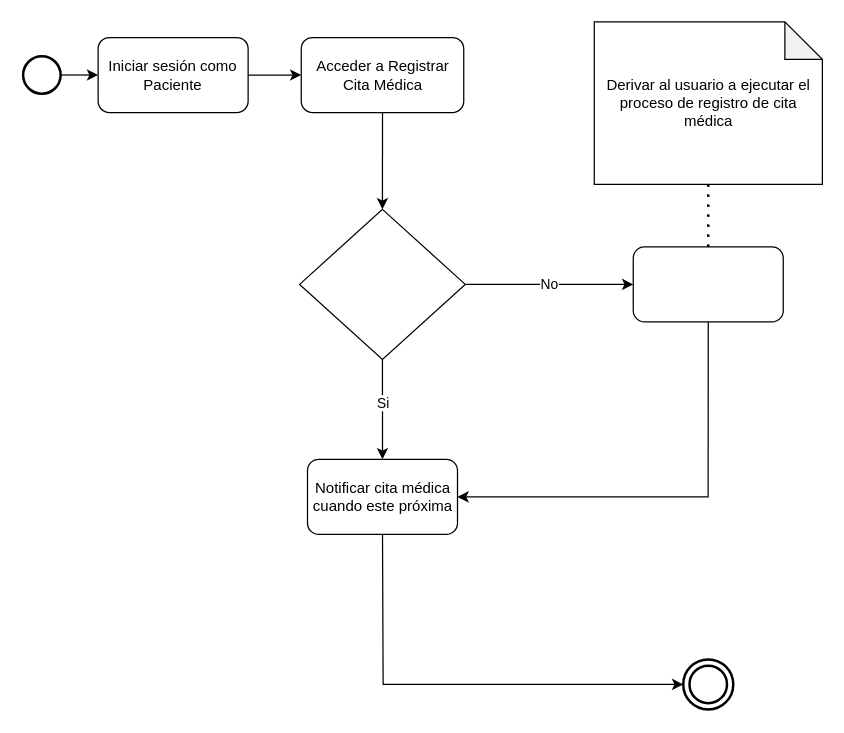
The diagram is 844 pixels wide and 733 high, and some of its shapes have lost their labels. Here are the shapes that lost their labels. From the top down, the centre of each, then its label:
At point 381,283: "Existe cita médica".
At point 707,284: "Ingresar cita médica".
